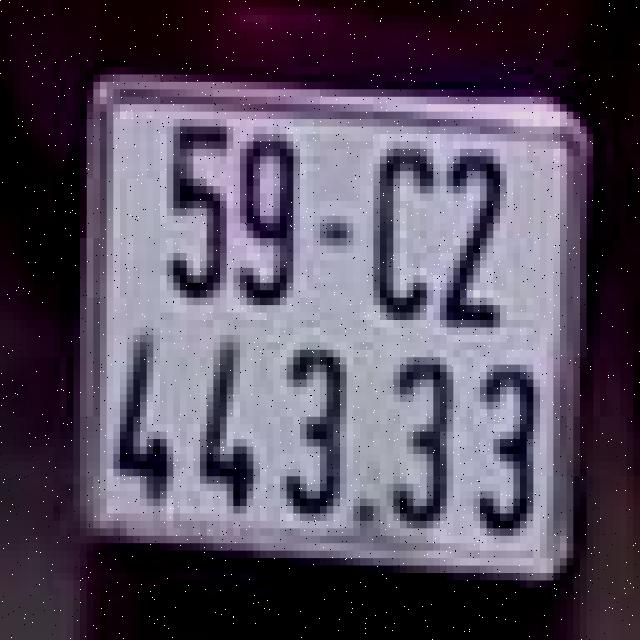2: (437, 145, 510, 331)
3: (467, 342, 540, 551), (376, 350, 456, 536), (273, 335, 347, 521)
4: (190, 316, 257, 525), (113, 320, 180, 506)
5: (163, 100, 237, 316)
9: (233, 123, 307, 324)
C: (370, 134, 430, 320)
